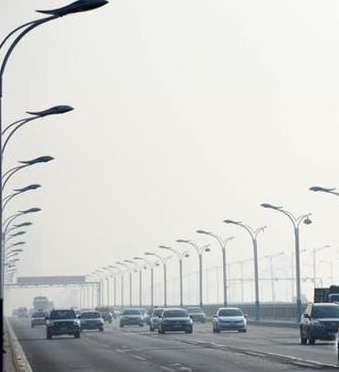car: (299, 302, 339, 348), (45, 307, 81, 341), (211, 305, 247, 332), (157, 308, 193, 335), (148, 308, 176, 333), (78, 311, 105, 333), (119, 308, 144, 328), (183, 305, 207, 325), (29, 308, 51, 328), (94, 306, 113, 324)
